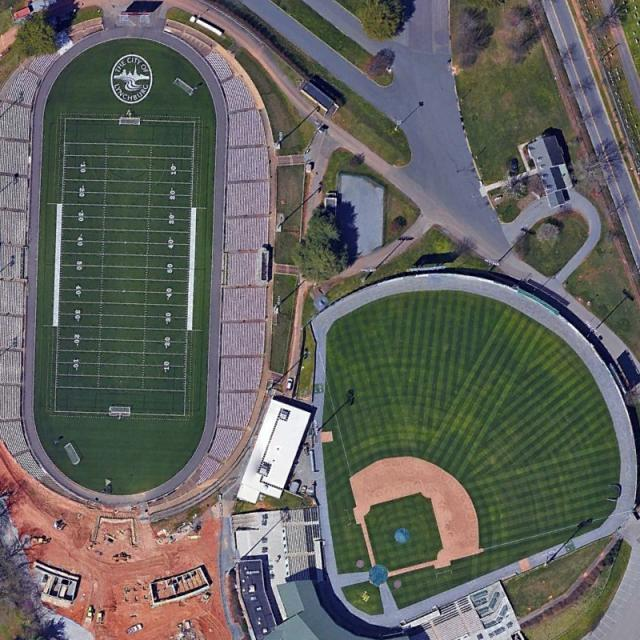vehicle: (126, 623, 143, 634), (86, 606, 94, 621), (286, 378, 293, 389), (97, 613, 102, 624), (300, 486, 306, 494)
